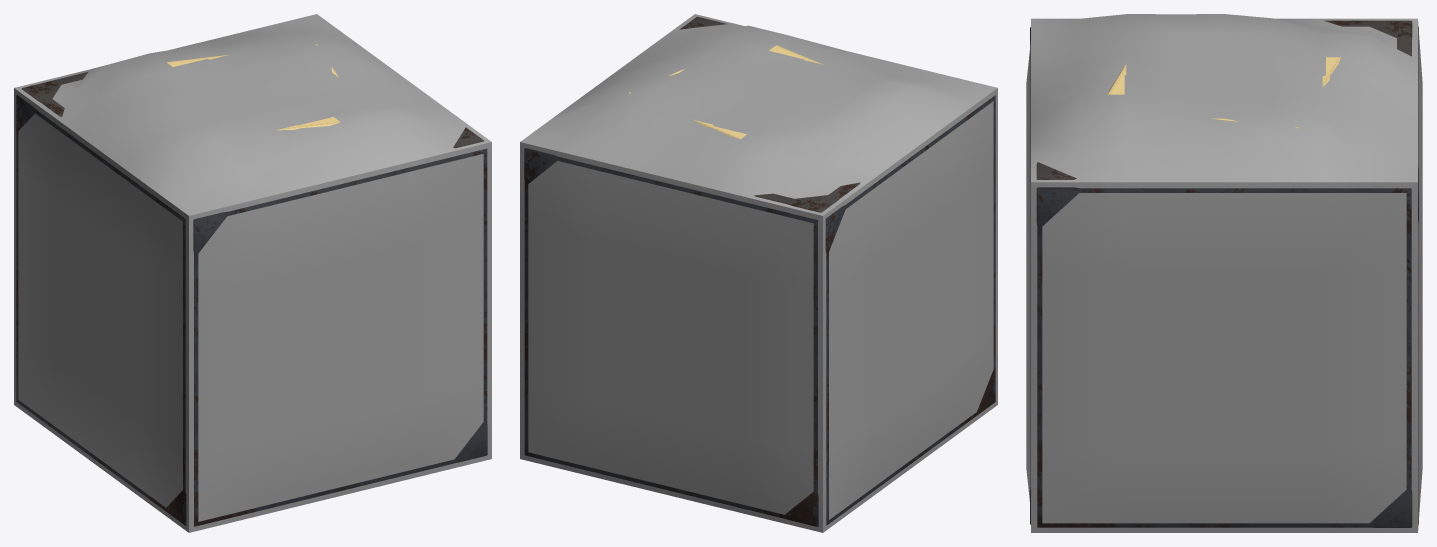
The model's file is roblox_cube_caged.fbx.
3 renders of one model, left to right at view 1: azimuth 30°, elevation 25°; view 2: azimuth 150°, elevation 25°; view 3: azimuth 270°, elevation 25°, orthographic. The views are drawn at different scales.
Visible parts, largest first — view 1: cube_OuterCage, cube; view 2: cube_OuterCage, cube; view 3: cube_OuterCage, cube.
Boxes of the visible parts, x1=… form: cube_OuterCage: x1=14, y1=14, x2=491, y2=532; cube: x1=16, y1=44, x2=487, y2=526; cube_OuterCage: x1=520, y1=14, x2=997, y2=532; cube: x1=524, y1=16, x2=995, y2=526; cube_OuterCage: x1=1026, y1=14, x2=1422, y2=532; cube: x1=1030, y1=20, x2=1418, y2=527.
Size of the model in its own units: 10.18 by 10.78 by 10.18.
2 materials, 1 textured.
